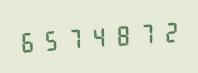eight: (109, 19, 131, 50)
five: (40, 24, 62, 55)
four: (86, 20, 108, 52)
seven: (132, 17, 154, 49), (63, 22, 85, 53)
six: (17, 25, 39, 57)
two: (155, 16, 177, 47)
